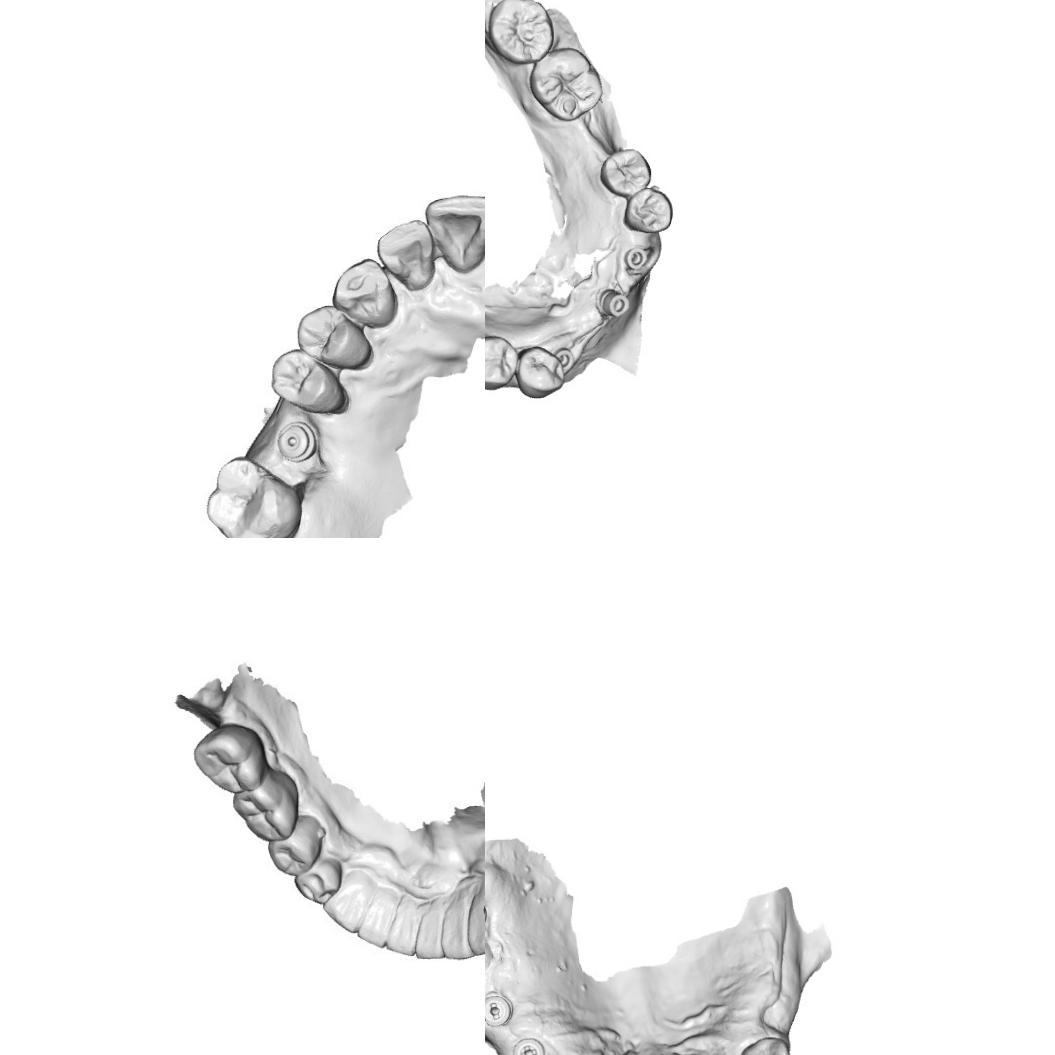canine: (328, 256, 401, 328), (318, 867, 379, 935), (466, 885, 485, 956), (738, 1036, 793, 1055)
implant: (266, 424, 328, 466), (596, 288, 630, 318), (622, 246, 649, 272), (554, 345, 576, 372)
implant_minus: (485, 990, 515, 1027)
implant_plus: (509, 1034, 547, 1055)
incisor: (373, 214, 438, 292), (427, 193, 485, 276), (354, 888, 396, 950), (437, 898, 473, 962), (382, 895, 417, 958), (411, 906, 445, 962)
molar: (201, 455, 305, 538), (528, 45, 604, 123), (191, 721, 267, 795), (230, 768, 300, 842), (486, 0, 555, 66)
premolar: (291, 307, 373, 369), (266, 346, 340, 414), (264, 812, 324, 877), (597, 147, 653, 199), (514, 344, 564, 400), (621, 186, 674, 234), (291, 856, 343, 904), (485, 332, 519, 391)
